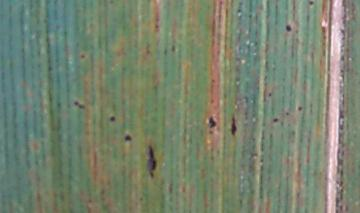tarspot: (143, 143, 158, 179), (229, 113, 238, 138), (205, 113, 218, 129), (142, 40, 153, 56), (72, 100, 85, 110), (284, 23, 293, 34), (167, 182, 175, 194), (108, 114, 117, 124), (123, 133, 132, 142), (170, 43, 177, 54), (320, 46, 327, 57), (180, 182, 186, 194), (320, 24, 327, 34), (321, 34, 326, 48), (79, 51, 86, 59), (153, 23, 161, 30), (47, 64, 54, 71), (296, 105, 303, 112), (283, 110, 291, 116), (267, 91, 273, 99), (272, 117, 279, 123), (235, 8, 242, 14), (86, 198, 93, 204), (307, 1, 315, 6), (108, 1, 116, 5)
